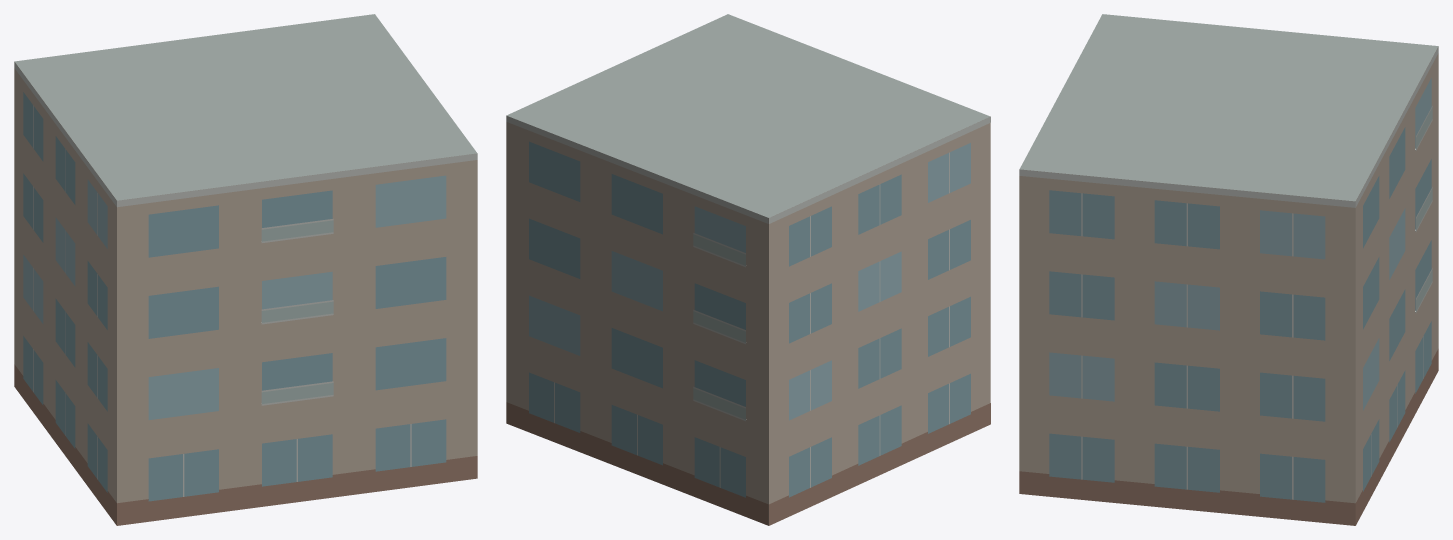
The model's file is residential-b7571235-be19-4a63-8bd6-7849343b9330.glb.
The picture shows the model from 3 angles, left to right: view 1: azimuth 30°, elevation 25°; view 2: azimuth 150°, elevation 25°; view 3: azimuth 270°, elevation 25°; orthographic projection. The views are drawn at different scales.
Visible parts, largest first — view 1: residential-b7571235-be19-4a63-8bd6-7849343b9330.tmp; view 2: residential-b7571235-be19-4a63-8bd6-7849343b9330.tmp; view 3: residential-b7571235-be19-4a63-8bd6-7849343b9330.tmp.
Boxes of the visible parts, x1=… form: residential-b7571235-be19-4a63-8bd6-7849343b9330.tmp: x1=14, y1=14, x2=477, y2=525; residential-b7571235-be19-4a63-8bd6-7849343b9330.tmp: x1=506, y1=14, x2=990, y2=525; residential-b7571235-be19-4a63-8bd6-7849343b9330.tmp: x1=1019, y1=14, x2=1438, y2=525.
Size of the model in its own units: 15.12 by 12.2 by 14.29.
